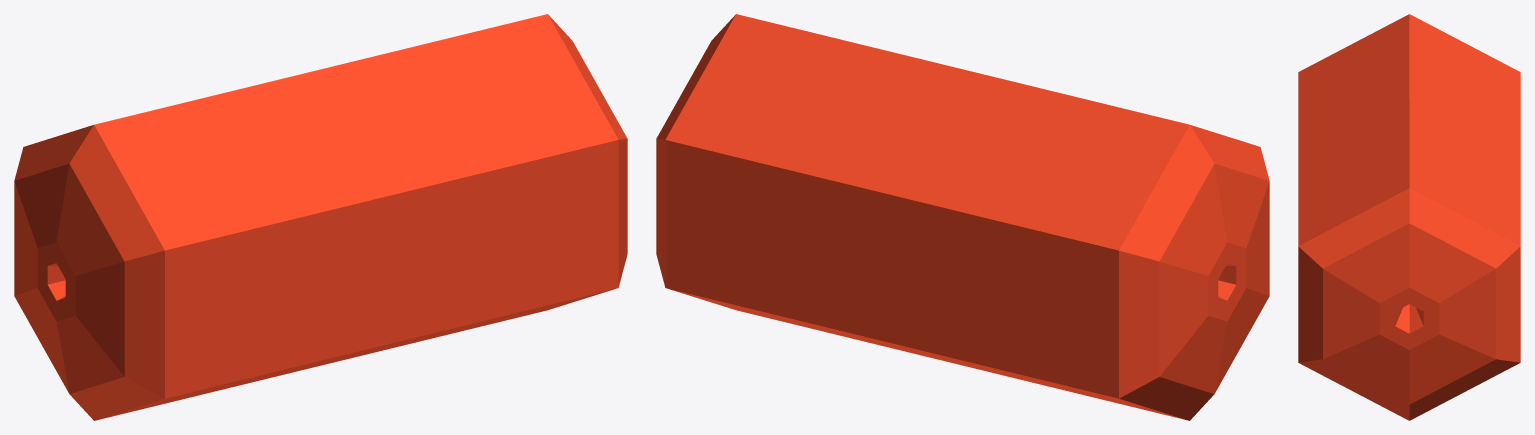
The model's file is SM_Buoy_Line_End_B_City.fbx.
3 views of the same model, side by side, from view 1: azimuth 30°, elevation 25°; view 2: azimuth 150°, elevation 25°; view 3: azimuth 270°, elevation 25° (orthographic). The views are drawn at different scales.
Parts seen in each view (by area): view 1: SM_Buoy_Line_End_B_City; view 2: SM_Buoy_Line_End_B_City; view 3: SM_Buoy_Line_End_B_City.
Part boxes in pixels (<box>): SM_Buoy_Line_End_B_City: <box>14,14,627,420</box>; SM_Buoy_Line_End_B_City: <box>656,14,1269,420</box>; SM_Buoy_Line_End_B_City: <box>1298,14,1520,420</box>.
Size of the model in its own units: 1 by 0.5372 by 0.4653.
